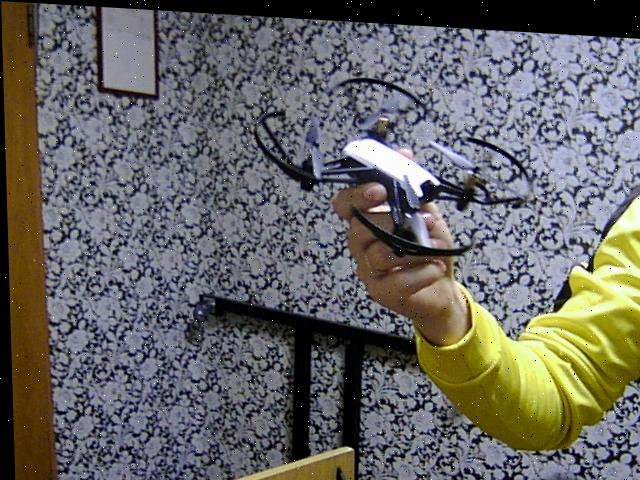drone: (240, 49, 539, 271)
